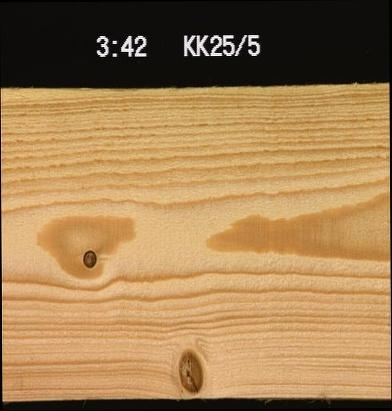dry_knot: (79, 247, 98, 269)
sound_knot: (175, 348, 205, 394)
